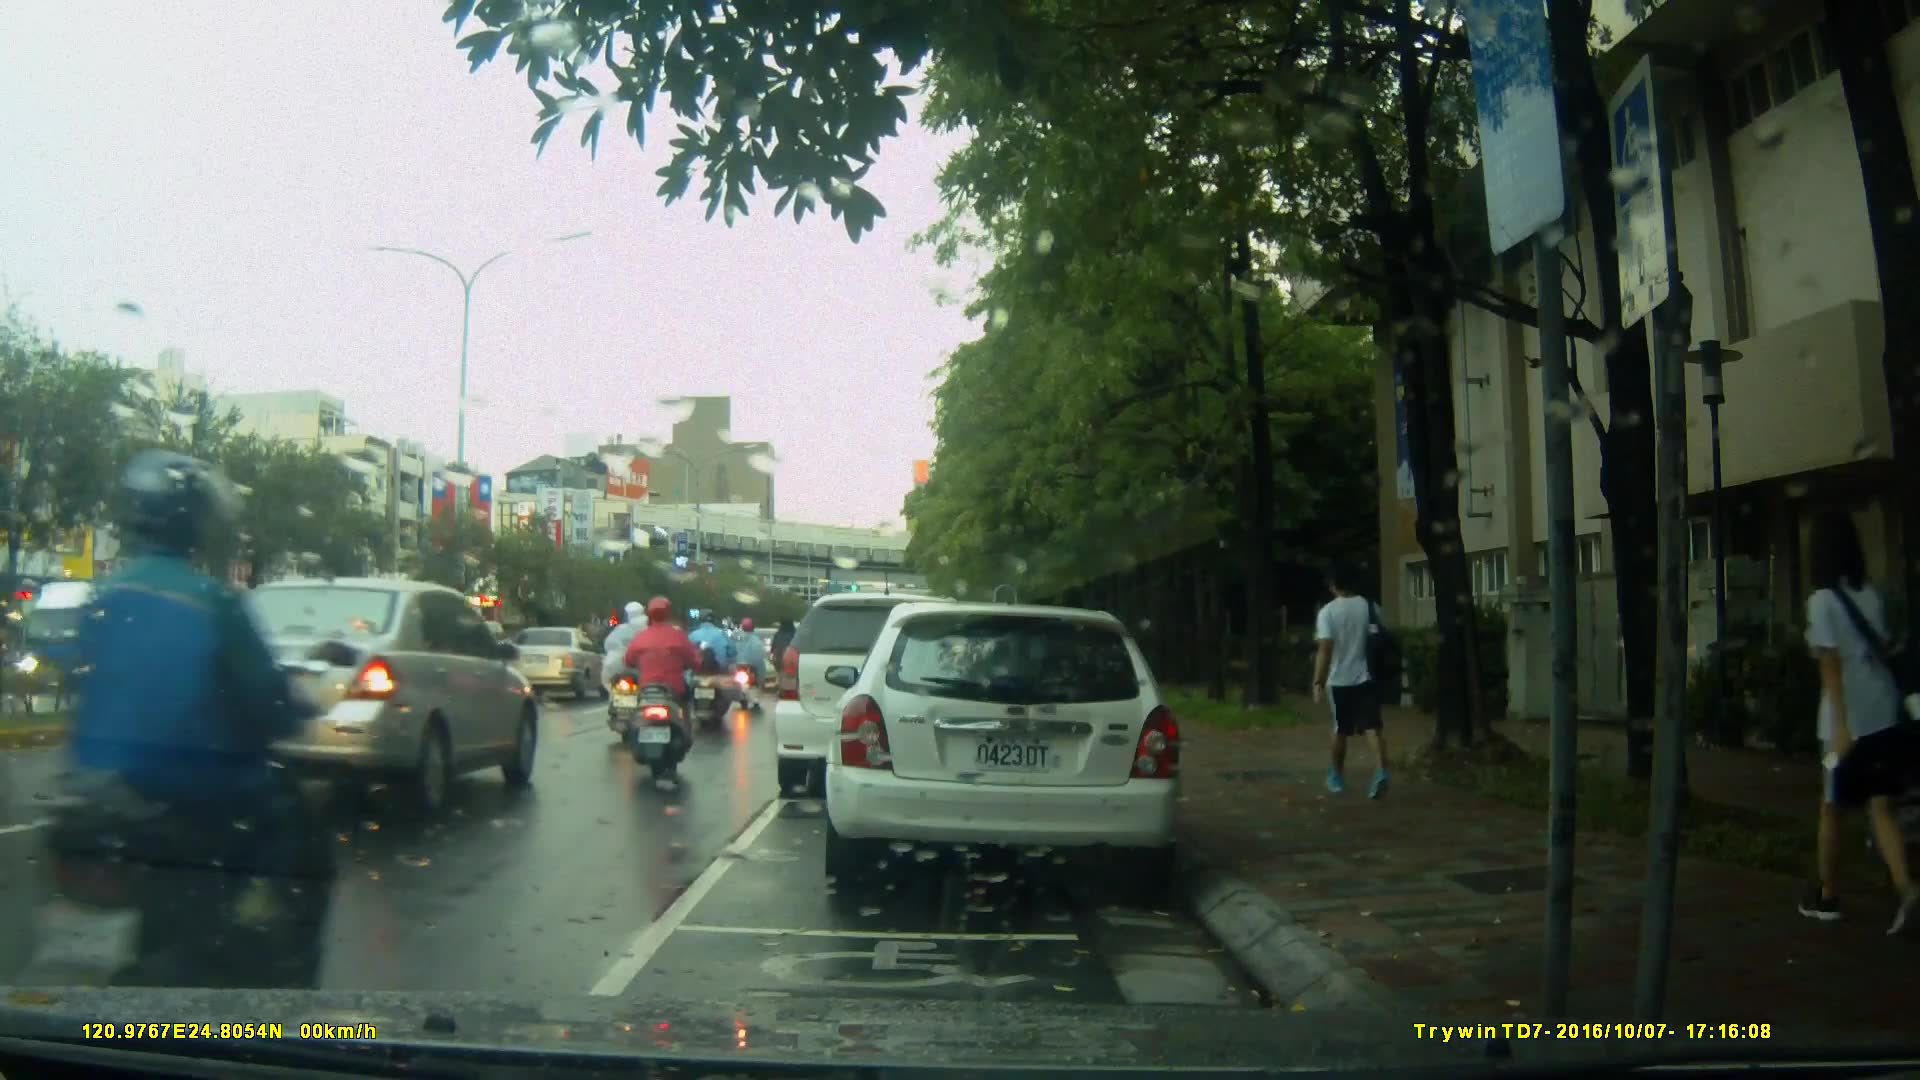pedestrian: (1785, 503, 1904, 939), (1309, 557, 1401, 810)
rider: (48, 444, 338, 1050), (614, 598, 696, 789), (610, 603, 661, 748), (684, 609, 742, 731), (732, 614, 772, 713), (774, 610, 808, 722)
vehicle: (822, 604, 1188, 882), (173, 576, 540, 819), (774, 595, 995, 802), (497, 624, 613, 705)
